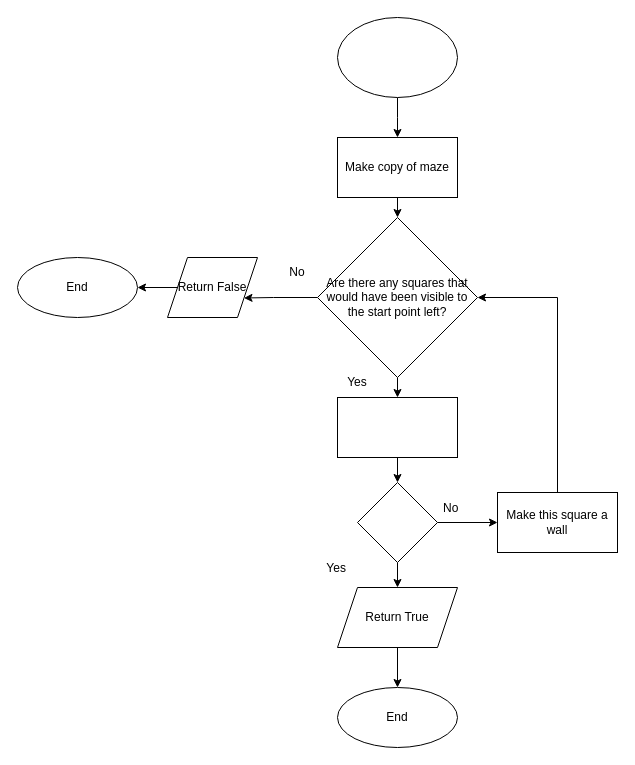
Image size: 635x765. Some labels were removed from this diagram. The box of each missing label's shape, as (x1, y1, x2, y2) in pixels:
Choose random wallless square, reachable from start point: (336, 396, 458, 458)
Is this square the exit?: (356, 482, 438, 562)
Start: (336, 16, 458, 98)
